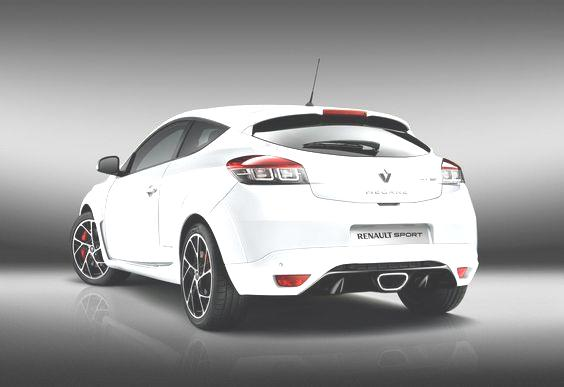Renault: (371, 159, 398, 185)
